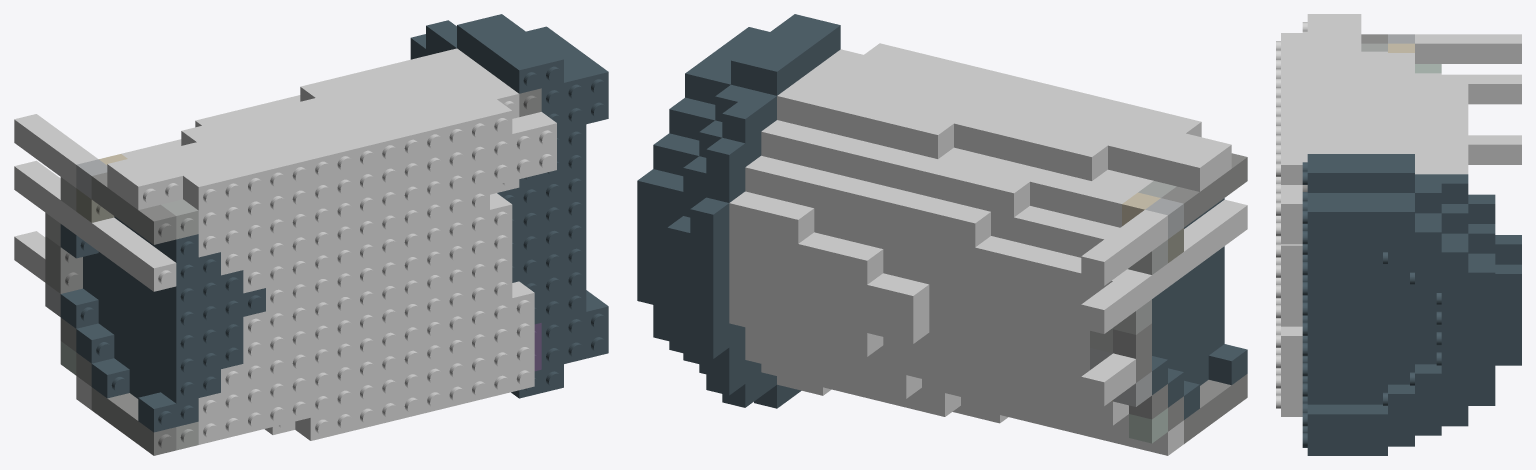
Rendered from full.glb.
3 renders of one model, left to right at view 1: azimuth 30°, elevation 25°; view 2: azimuth 150°, elevation 25°; view 3: azimuth 270°, elevation 25°, orthographic. The views are drawn at different scales.
Visible parts, largest first — view 1: world; view 2: world; view 3: world.
Part boxes in pixels (x1=…): world: x1=14, y1=14, x2=608, y2=455; world: x1=637, y1=14, x2=1247, y2=455; world: x1=1276, y1=14, x2=1521, y2=455.
Bounding box in the file's own units: 168 × 112 × 88.2.
